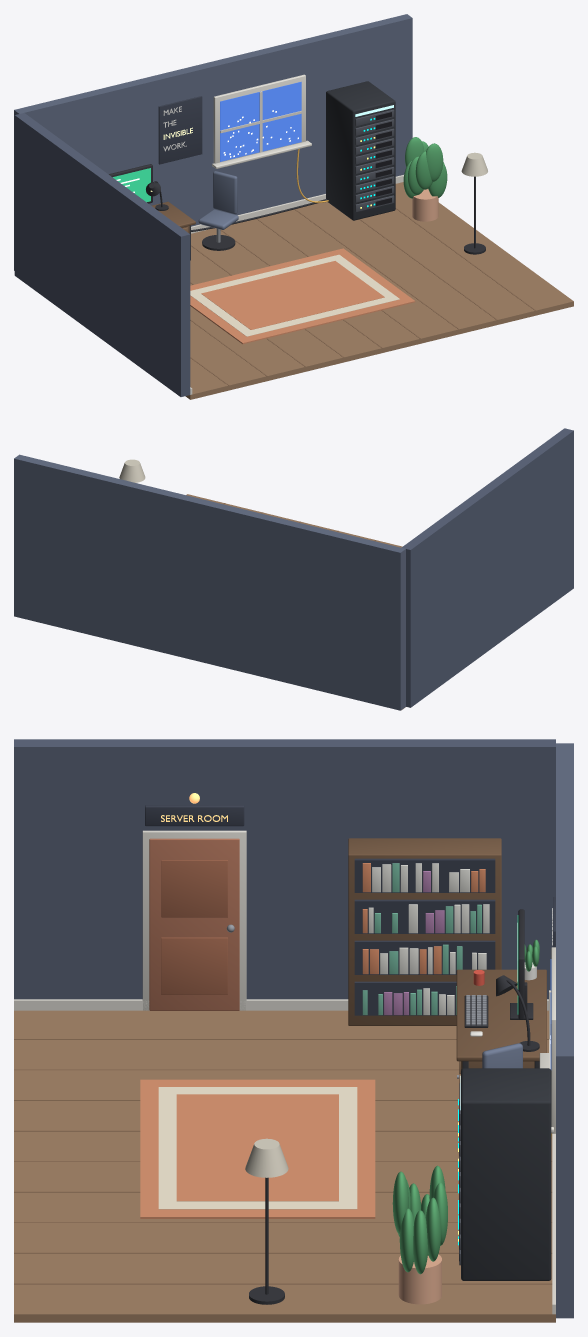
Rendered from room.glb.
3 renders of one model, top to bottom at view 1: azimuth 30°, elevation 25°; view 2: azimuth 150°, elevation 25°; view 3: azimuth 270°, elevation 25°, orthographic. The views are drawn at different scales.
Parts seen in each view (by area): view 1: room; view 2: room; view 3: room.
Part boxes in pixels (x1,y1,x2,y2): room: [14, 14, 573, 399]; room: [14, 428, 573, 710]; room: [14, 739, 573, 1322].
Size of the model in its own units: 8.3 by 3.3 by 6.2.
